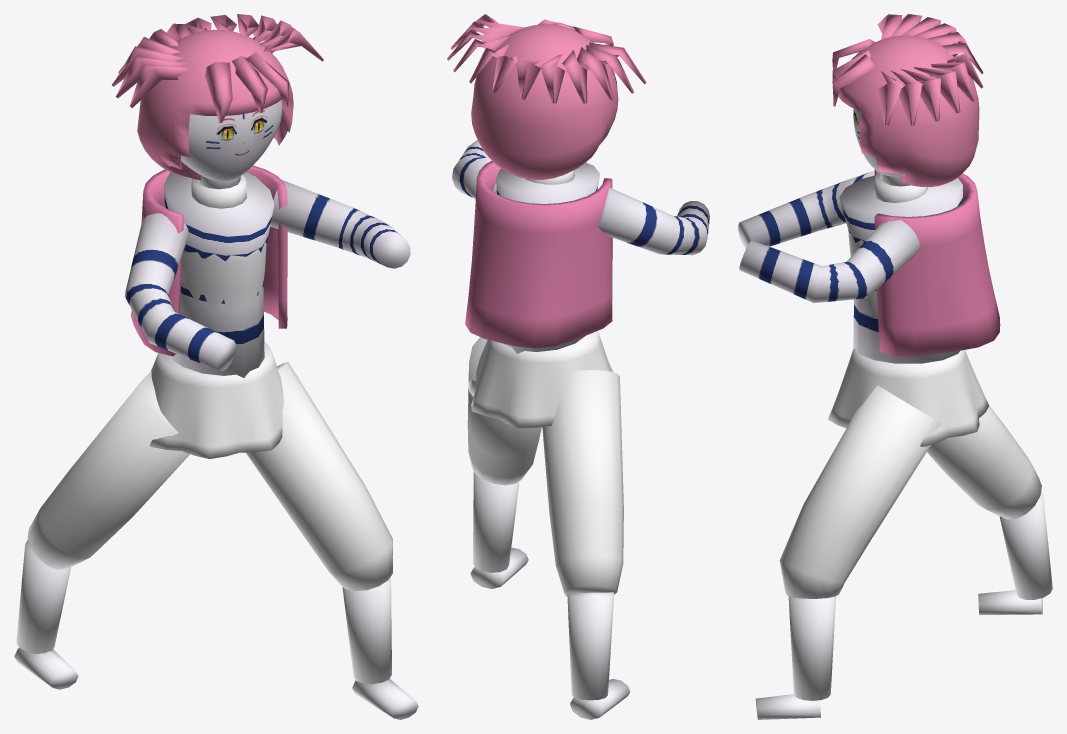
File: akaza.glb
The picture shows the model from 3 angles, left to right: view 1: azimuth 30°, elevation 25°; view 2: azimuth 150°, elevation 25°; view 3: azimuth 270°, elevation 25°; orthographic projection. The views are drawn at different scales.
Visible parts, largest first — view 1: LegR_P, LegL_P, HipHem, TattooTorso, HairCrown, ArmL, ArmR, Head, AkazaVest, LegR_W, LegL_W, Torso (+9 smaller); view 2: AkazaVest, LegL_P, HairCrown, HipHem, ArmL, LegR_P, LegL_W, LegR_W, TattooTorso, ArmR, FootL, FootR (+8 smaller); view 3: LegR_P, AkazaVest, HairCrown, HipHem, ArmR, LegL_P, TattooTorso, LegR_W, ArmL, LegL_W, FootR, FootL (+7 smaller).
Part boxes in pixels (<box>): LegR_P: <box>246,362,392,590</box>; LegL_P: <box>27,371,189,569</box>; HipHem: <box>149,341,283,458</box>; TattooTorso: <box>163,172,274,377</box>; HairCrown: <box>137,29,293,180</box>; ArmL: <box>124,213,235,371</box>; ArmR: <box>270,179,410,268</box>; Head: <box>181,100,281,181</box>; AkazaVest: <box>131,165,287,356</box>; LegR_W: <box>342,577,391,684</box>; LegL_W: <box>16,539,70,653</box>; Torso: <box>181,242,266,310</box>; AkazaVest: <box>465,161,612,348</box>; LegL_P: <box>542,370,623,596</box>; HairCrown: <box>471,24,618,179</box>; HipHem: <box>468,331,620,428</box>; ArmL: <box>597,188,709,255</box>; LegR_P: <box>467,337,541,485</box>; LegL_W: <box>567,592,614,700</box>; LegR_W: <box>472,471,519,572</box>; TattooTorso: <box>496,162,599,354</box>; ArmR: <box>452,140,496,198</box>; FootL: <box>570,679,630,719</box>; FootR: <box>470,547,528,588</box>; LegR_P: <box>779,385,941,598</box>; AkazaVest: <box>874,169,1000,356</box>; HairCrown: <box>838,35,979,186</box>; HipHem: <box>828,349,989,446</box>; ArmR: <box>739,220,919,303</box>; LegL_P: <box>927,405,1041,519</box>; TattooTorso: <box>839,175,962,363</box>; LegR_W: <box>788,596,835,700</box>; ArmL: <box>738,171,874,248</box>; LegL_W: <box>999,491,1052,599</box>; FootR: <box>755,694,820,719</box>; FootL: <box>978,590,1042,615</box>.
Size of the model in its own units: 0.7829 by 1.86 by 0.8497.
7 materials, 2 textured.
